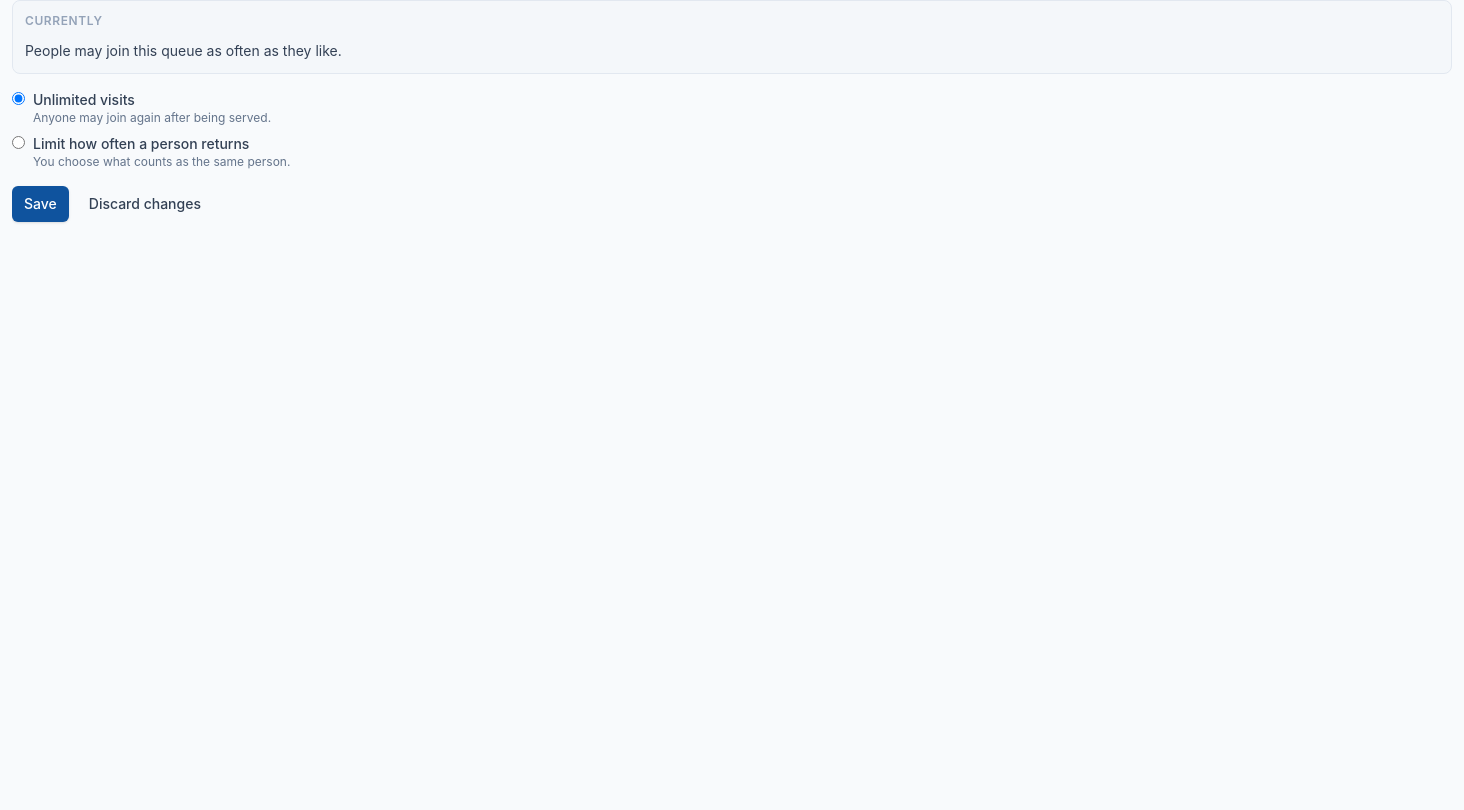
Scenario: RepeatVisitPolicy — repeat restriction scope (ADR-049) › defaults to the entire queue and explains both options
This screenshot has width=1464, height=810.
Click the radio button labelled "Limit how often a person returns". click: (18, 142)
box: left=12, top=136, right=25, bottom=149
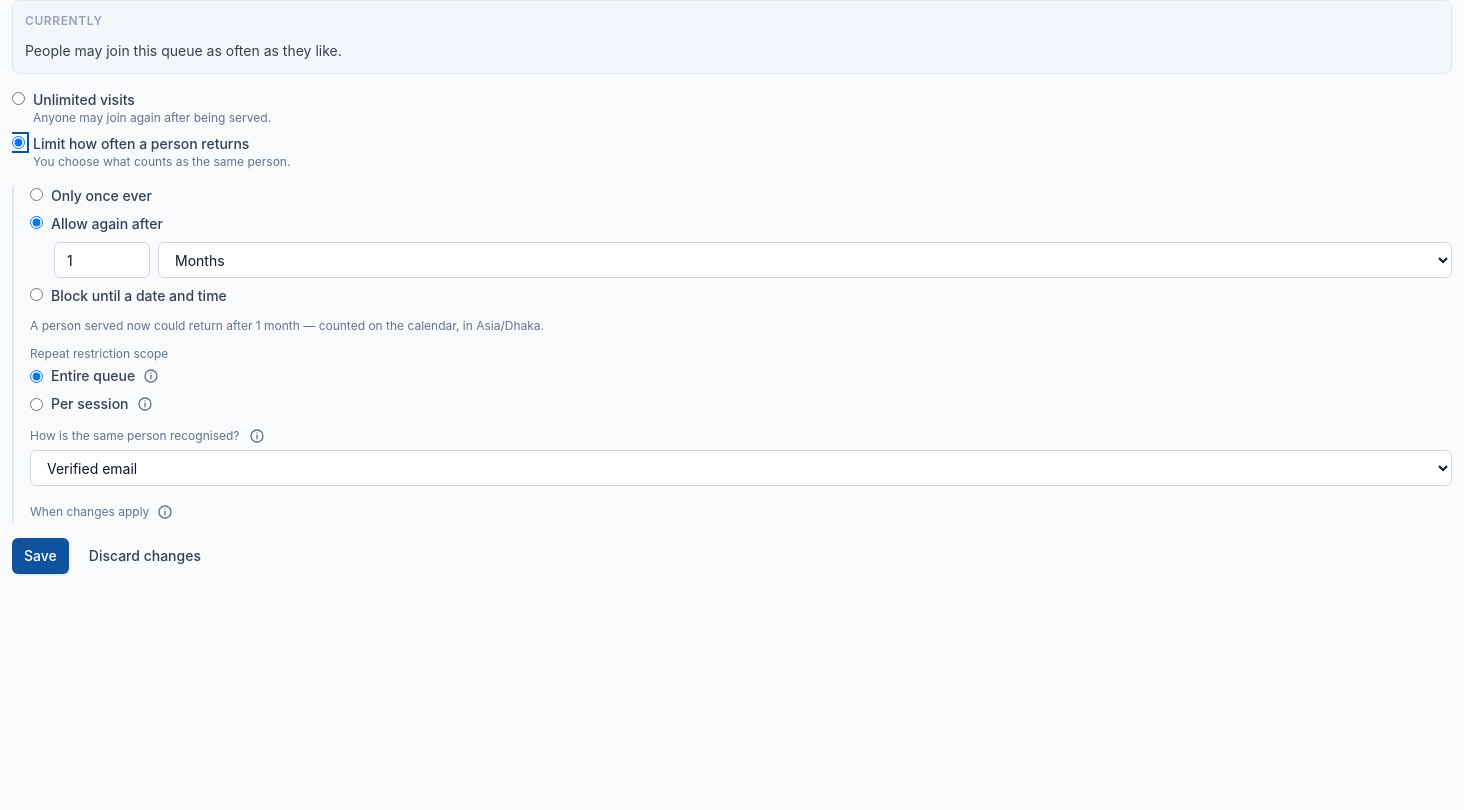
Expected: the radio button labelled "Entire queue" is checked, left=30, top=370, right=43, bottom=382
